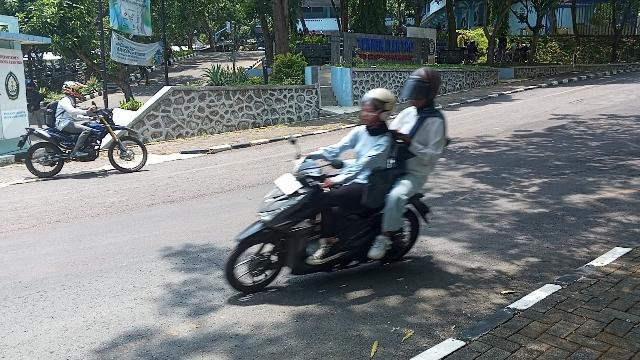helm: (399, 67, 443, 111), (358, 87, 398, 129), (63, 80, 90, 103)
motor: (226, 135, 435, 294), (17, 101, 150, 180)
